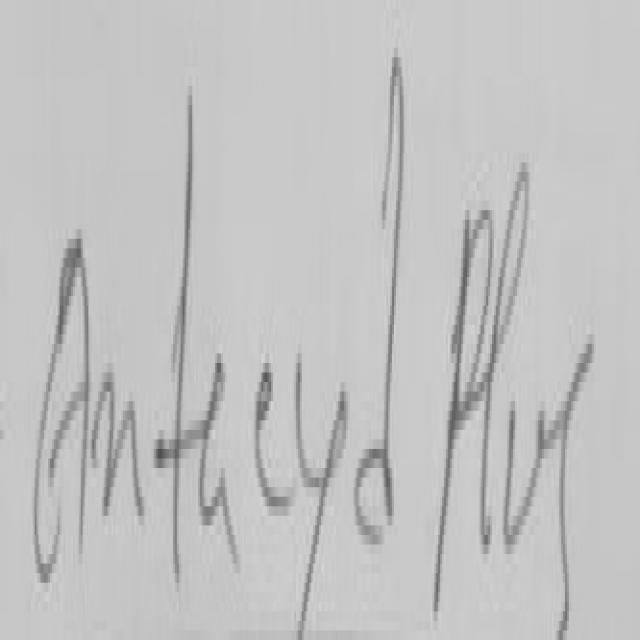A: (35, 239, 90, 578)
P: (435, 192, 497, 588)
a: (198, 375, 238, 568)
c: (256, 363, 292, 501)
d: (356, 57, 406, 540)
l: (473, 154, 536, 568)
n: (92, 373, 144, 516)
s: (546, 319, 596, 632)
t: (154, 101, 200, 609)
u: (502, 386, 548, 565)
y: (296, 358, 346, 635)
